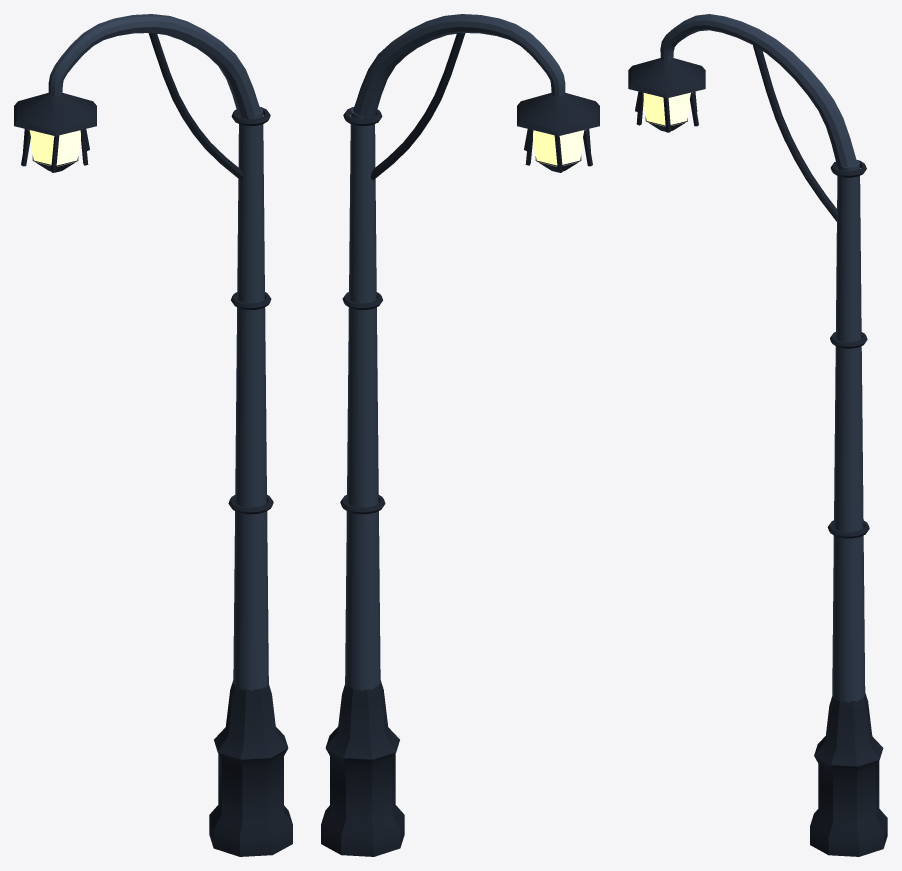
The model's file is farola_estacion.glb.
3 renders of one model, left to right at view 1: azimuth 30°, elevation 25°; view 2: azimuth 150°, elevation 25°; view 3: azimuth 330°, elevation 25°, orthographic. The views are drawn at different scales.
Visible parts, largest first — view 1: Farola_Estacion; view 2: Farola_Estacion; view 3: Farola_Estacion.
Boxes of the visible parts, bbox=[...] form: Farola_Estacion: bbox=[14, 14, 292, 856]; Farola_Estacion: bbox=[321, 14, 599, 856]; Farola_Estacion: bbox=[628, 14, 887, 856].
Bounding box in the file's own units: 2.05 × 6.08 × 0.56.
